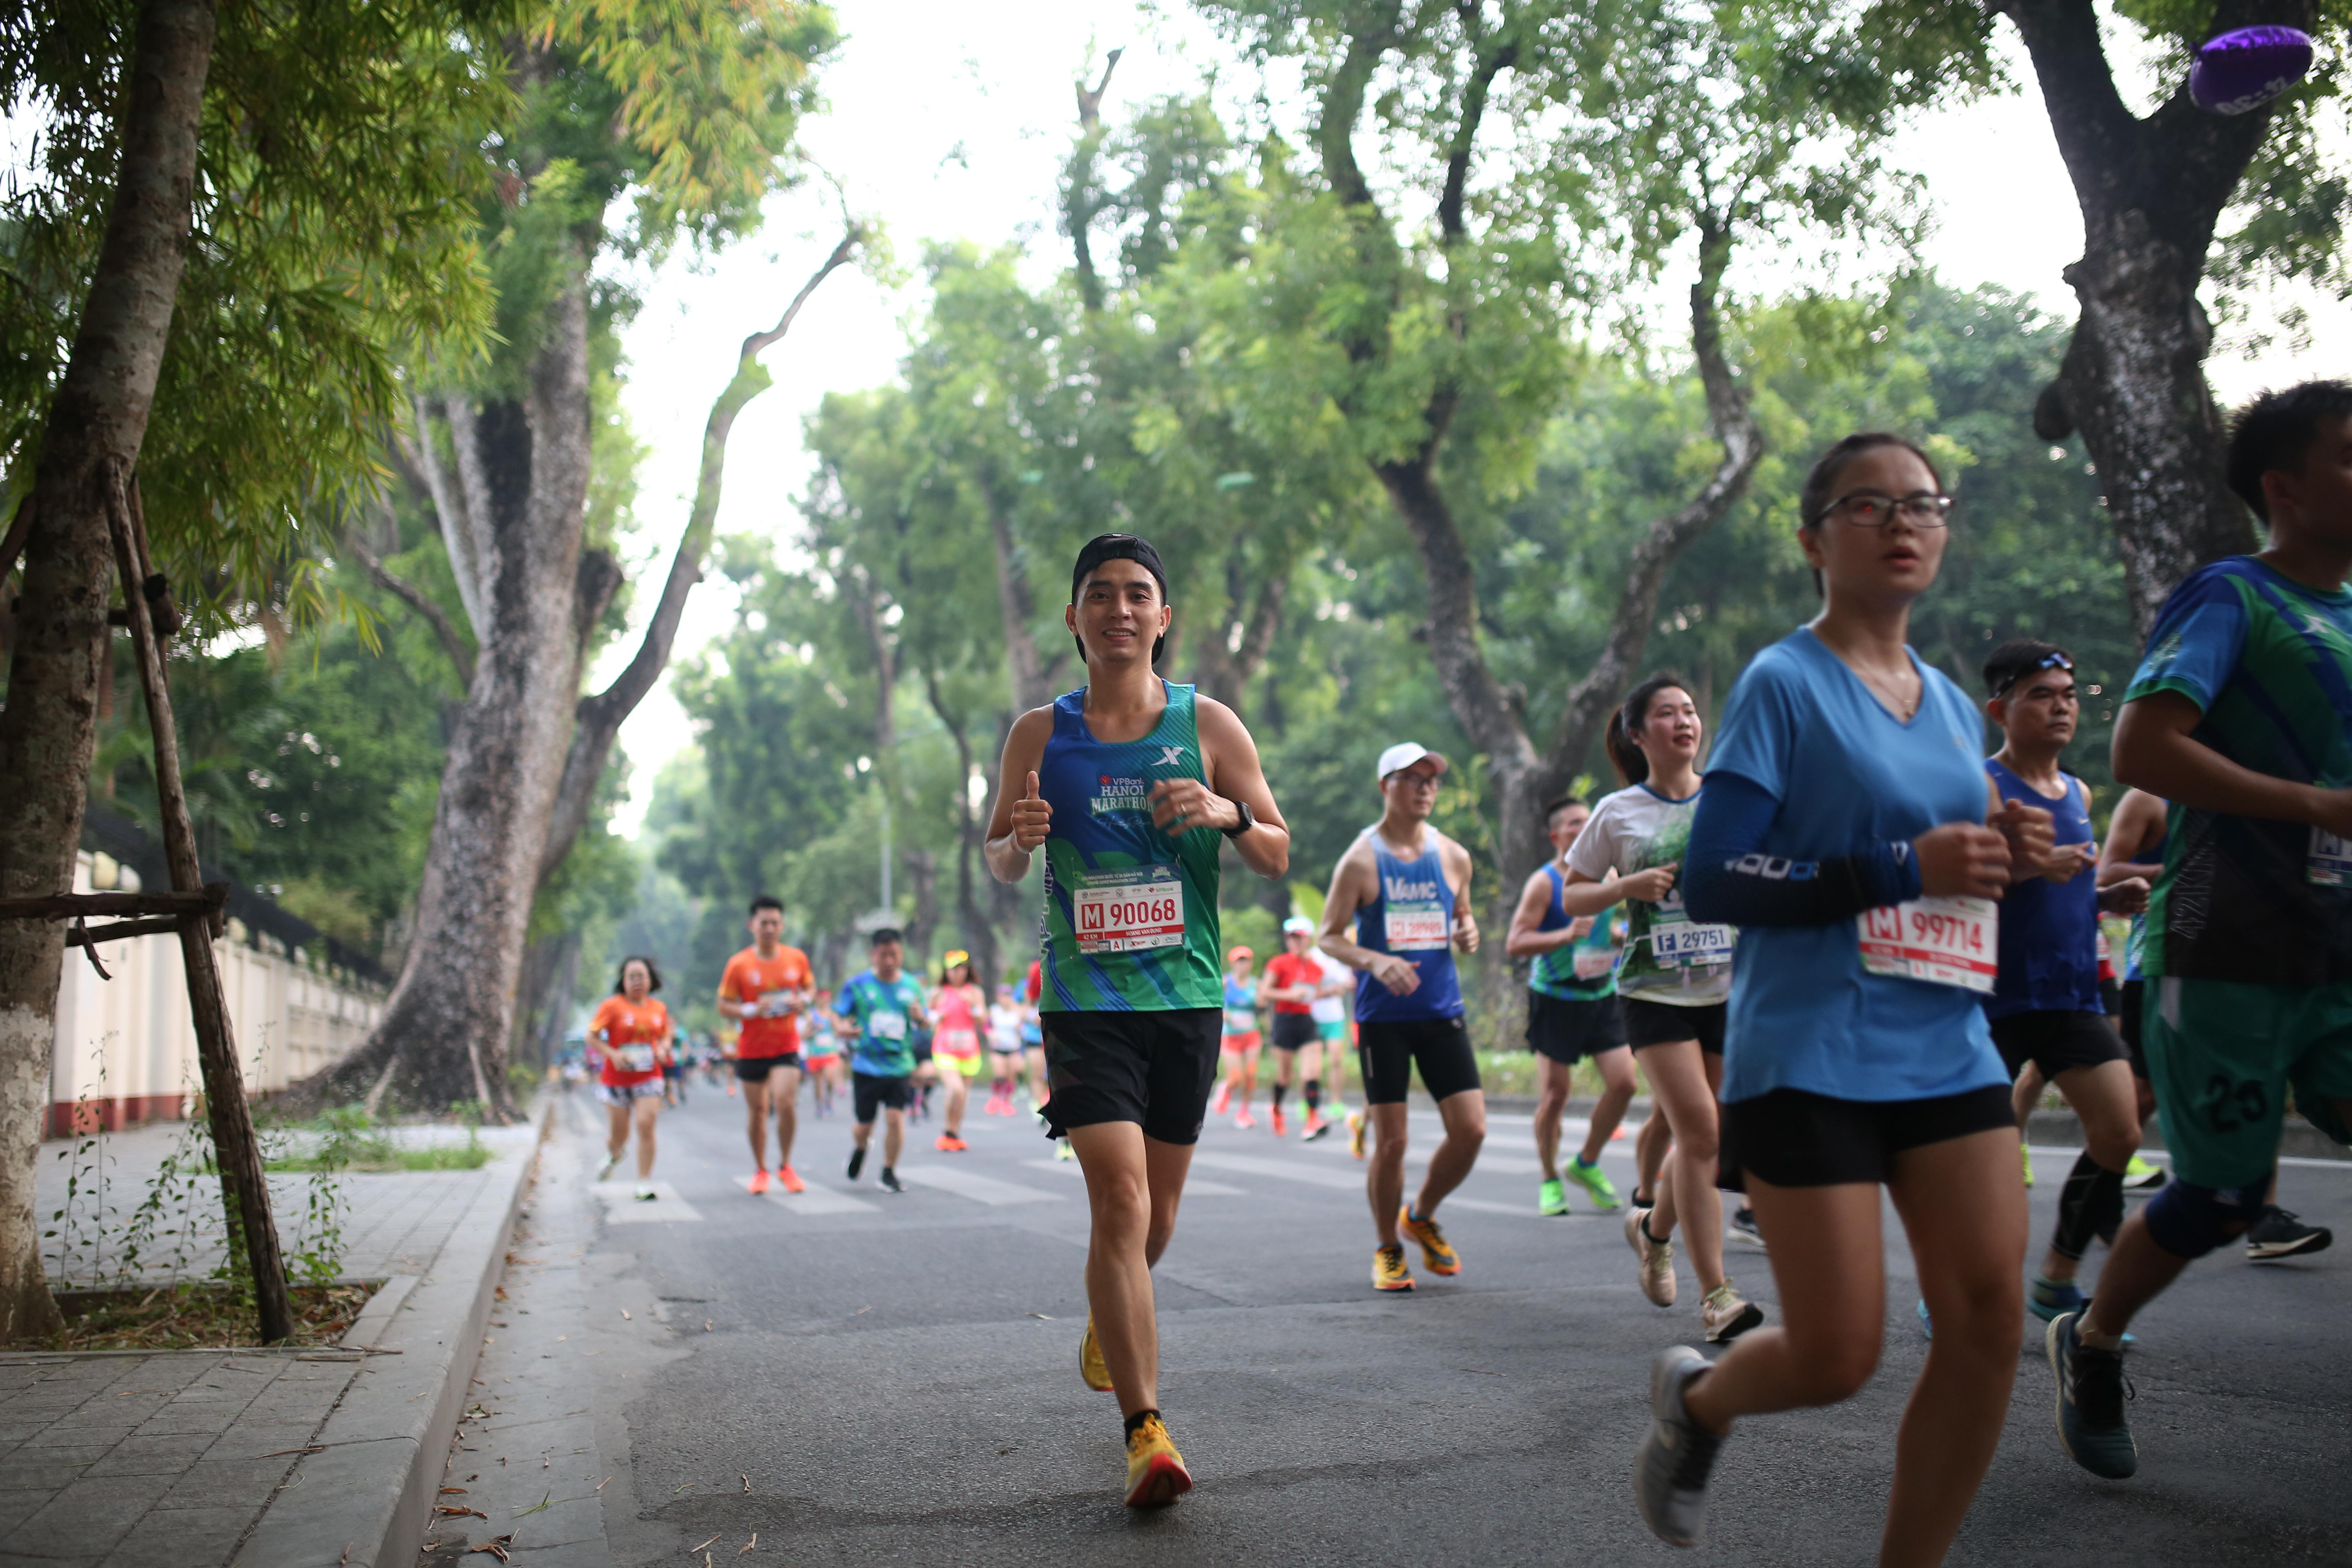bib: (1858, 880, 1998, 997), (1073, 868, 1185, 952), (1647, 910, 1732, 964), (2310, 812, 2352, 896), (1384, 899, 1447, 952), (1571, 936, 1617, 980), (870, 1011, 906, 1039), (623, 1046, 654, 1073)
